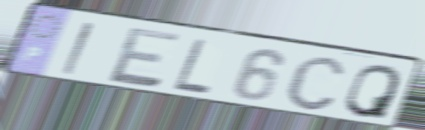6: (232, 48, 286, 102)
C: (282, 54, 349, 113)
E: (105, 24, 184, 90)
I: (58, 20, 97, 78)
L: (171, 36, 213, 97)
Q: (342, 62, 404, 121)
